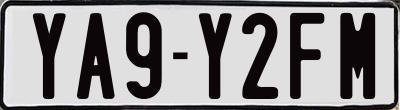2: (242, 12, 279, 99)
9: (126, 12, 162, 100)
A: (75, 11, 118, 97)
F: (290, 13, 327, 100)
M: (339, 11, 376, 99)
Y: (31, 11, 69, 98), (196, 10, 231, 99)
